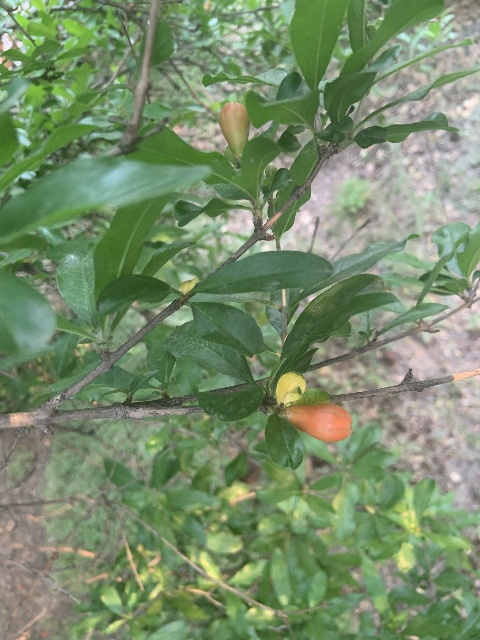bud: (284, 403, 352, 442)
